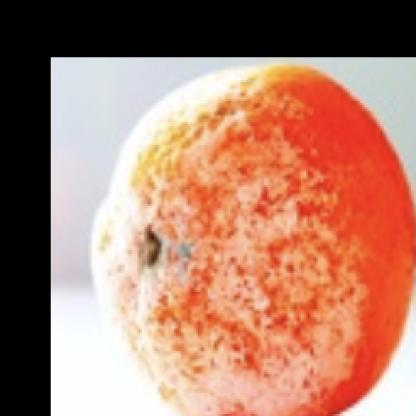rotten: (91, 60, 416, 416)
